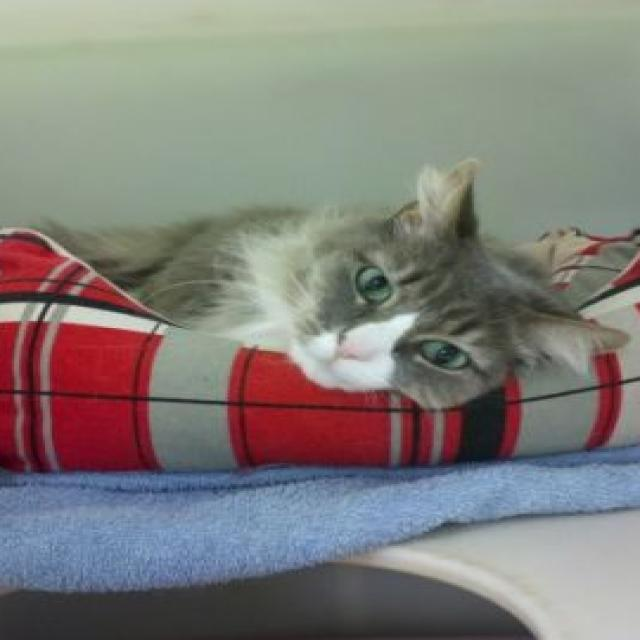Ragdoll: (11, 148, 636, 417)
